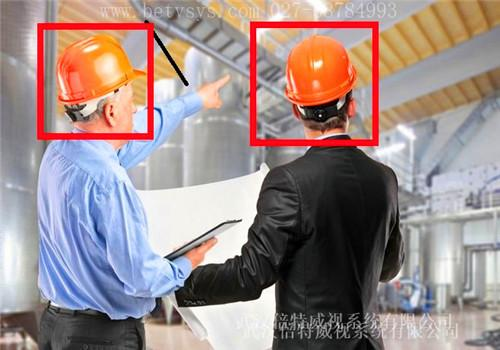helmet: (55, 34, 147, 105), (285, 35, 359, 108)
